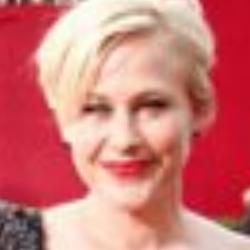face: (25, 3, 222, 221)
